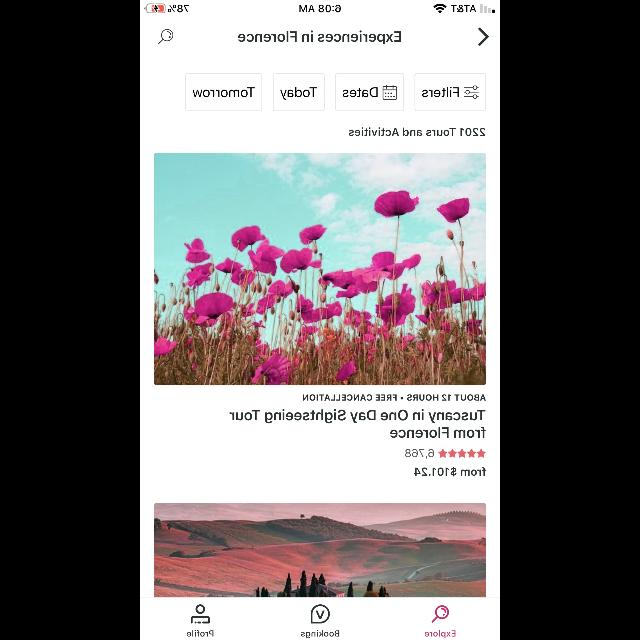icon: (438, 448, 486, 458), (190, 604, 210, 624), (432, 606, 448, 622), (158, 30, 174, 44), (478, 28, 488, 46)
image: (154, 153, 486, 385), (154, 503, 486, 597), (310, 604, 330, 624)
text: (230, 409, 486, 438), (238, 31, 400, 45), (302, 395, 486, 401), (349, 128, 485, 136), (414, 467, 486, 477), (301, 630, 339, 638), (404, 449, 434, 459), (424, 630, 456, 638), (186, 630, 214, 636)
textbutton: (185, 73, 262, 111), (414, 73, 486, 111), (334, 73, 404, 111), (273, 74, 325, 112)
uppertaskbar: (140, 0, 500, 14)
